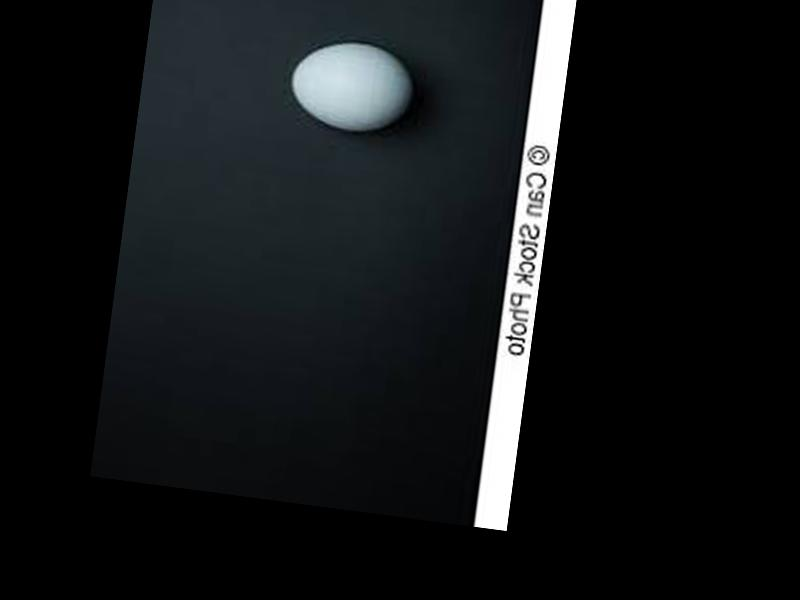Eggs: (285, 33, 417, 137)
